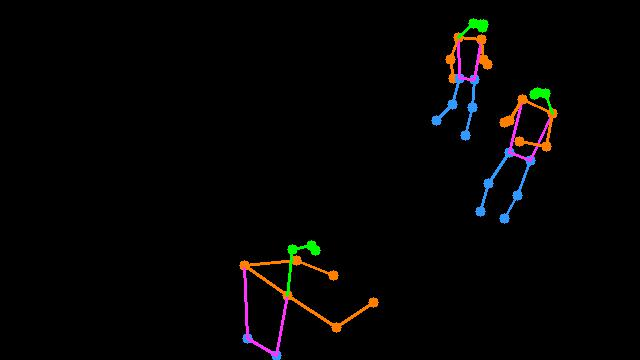normal: (466, 82, 559, 231), (422, 12, 503, 144)
